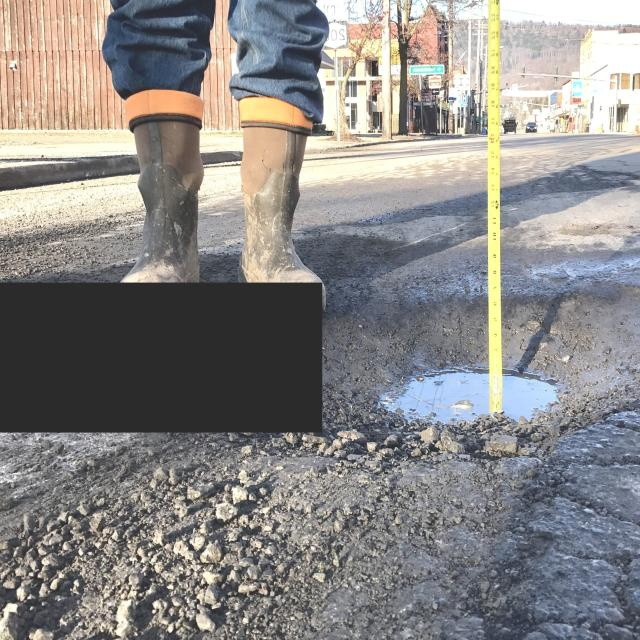road-pothole: (324, 287, 630, 465)
